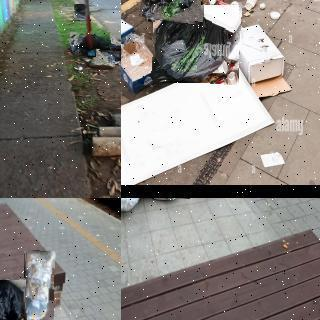Garbage: (152, 4, 241, 84), (22, 250, 55, 320), (142, 0, 204, 24), (0, 279, 27, 320), (69, 29, 111, 54), (95, 37, 121, 63), (121, 198, 142, 210), (74, 4, 87, 20), (87, 50, 96, 58)
